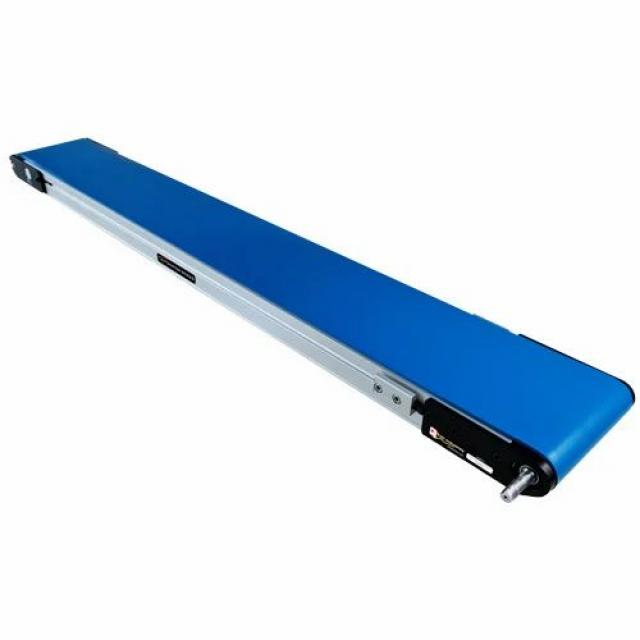Convoyeur: (6, 124, 640, 517)
